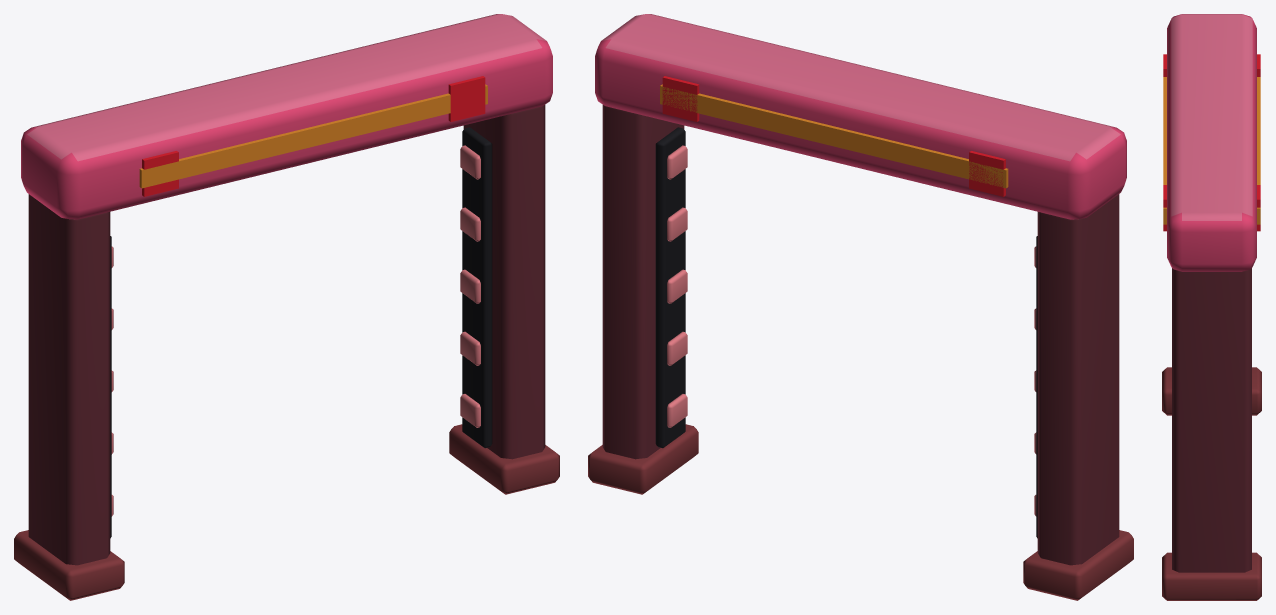
Rendered from citrus-gateframe.glb.
3 renders of one model, left to right at view 1: azimuth 30°, elevation 25°; view 2: azimuth 150°, elevation 25°; view 3: azimuth 270°, elevation 25°, orthographic. The views are drawn at different scales.
Parts seen in each view (by area): view 1: citrus-gateframe; view 2: citrus-gateframe; view 3: citrus-gateframe.
Part boxes in pixels (box(x1,y1,x2,y2)): citrus-gateframe: box(14, 14, 559, 600); citrus-gateframe: box(588, 14, 1133, 600); citrus-gateframe: box(1162, 14, 1261, 600).
Size of the model in its own units: 2 by 1.7 by 0.4.
